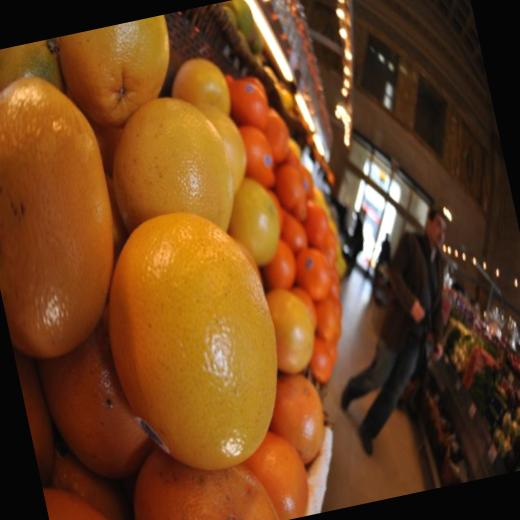Grape: (80, 193, 294, 463)
